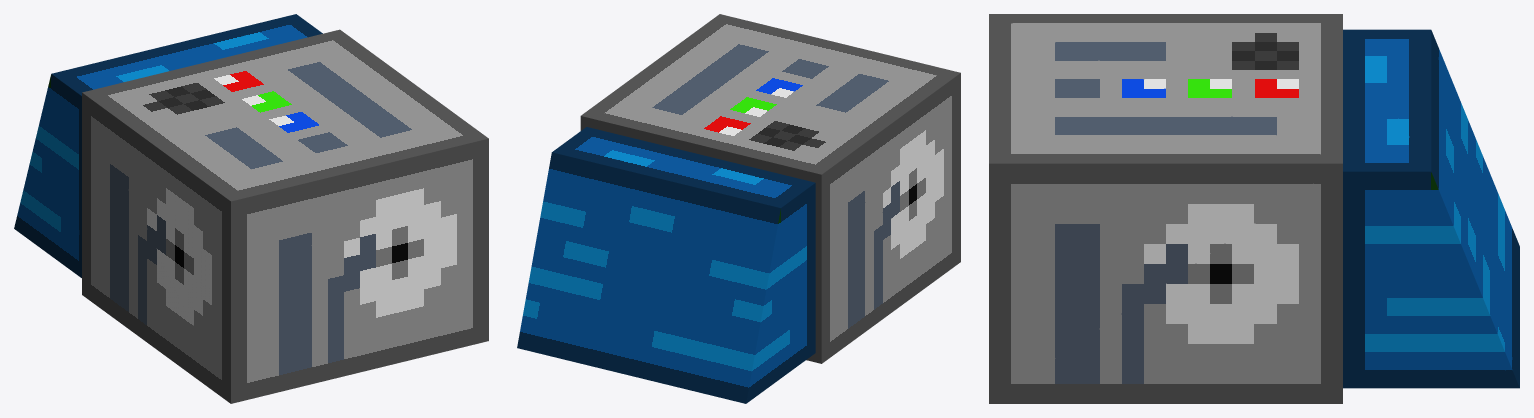
Rendered from Datadrive.obj.
3 renders of one model, left to right at view 1: azimuth 30°, elevation 25°; view 2: azimuth 150°, elevation 25°; view 3: azimuth 270°, elevation 25°, orthographic. The views are drawn at different scales.
Parts seen in each view (by area): view 1: cuboid; view 2: cuboid; view 3: cuboid.
Part boxes in pixels (x1,y1,x2,y2): cuboid: (14,14,488,403); cuboid: (517,14,960,403); cuboid: (989,14,1519,403).
Bounding box in the file's own units: 0.25 × 0.1875 × 0.375.
1 material, 1 textured.
